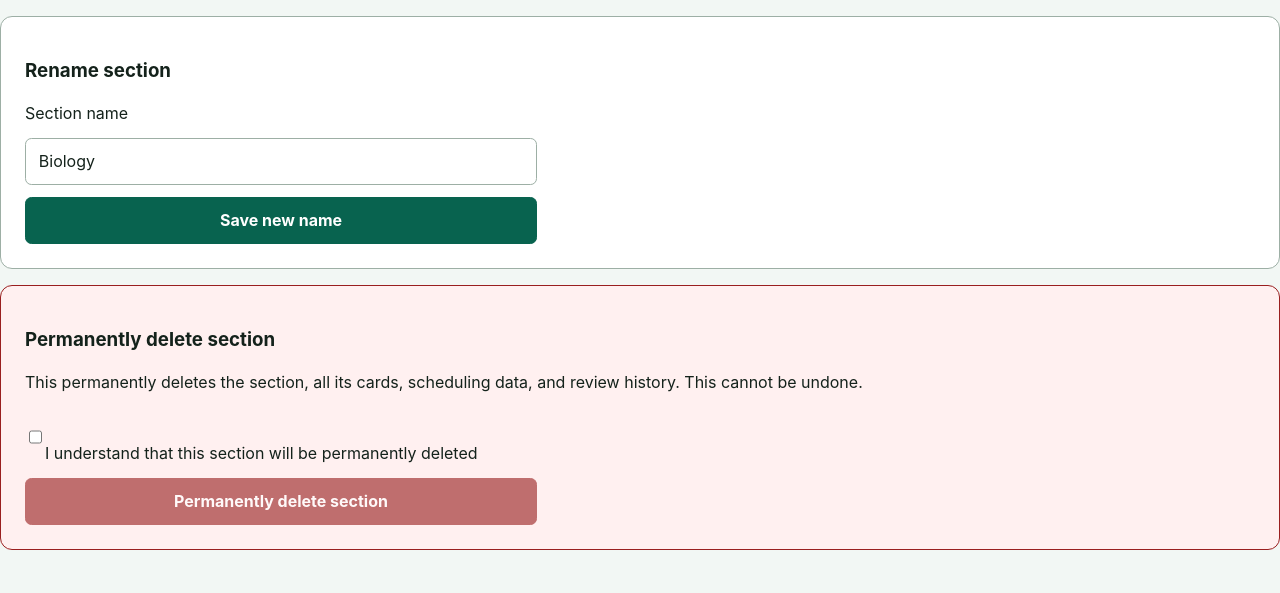
Test: SectionManagementPanel › renames with the current revision and focuses the success status
Replace the text in the field labelled "Section name" with "Human Biology" at [281, 162], box [25,138,537,185]
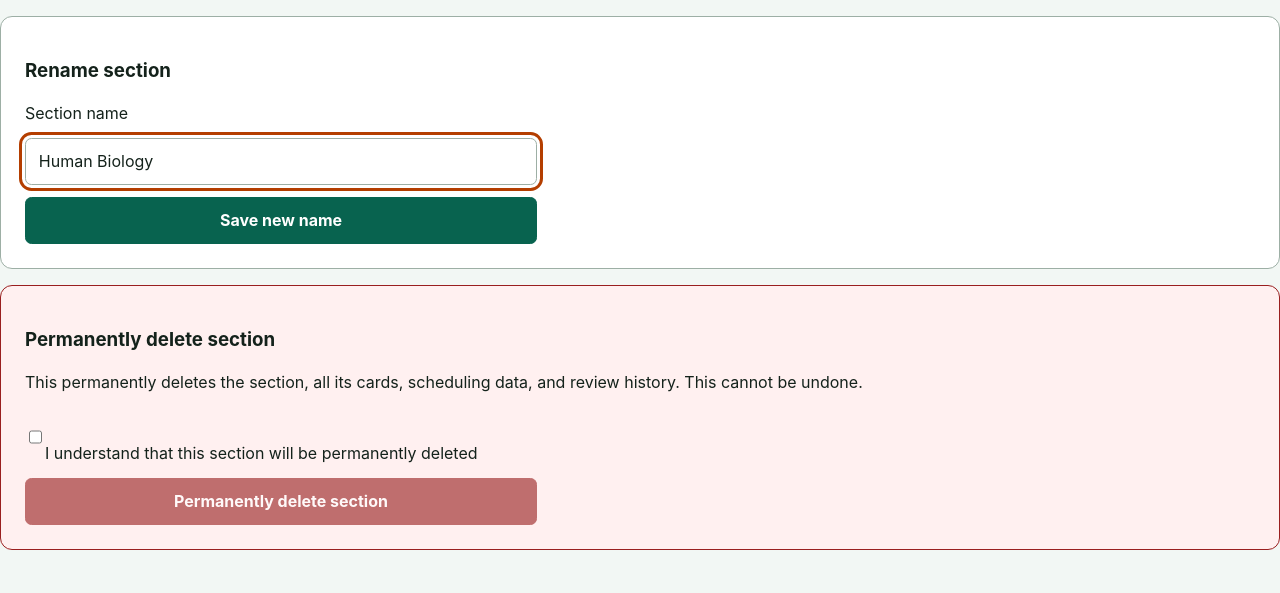
Click the button "Save new name".
click(281, 221)  # box [25,197,537,244]
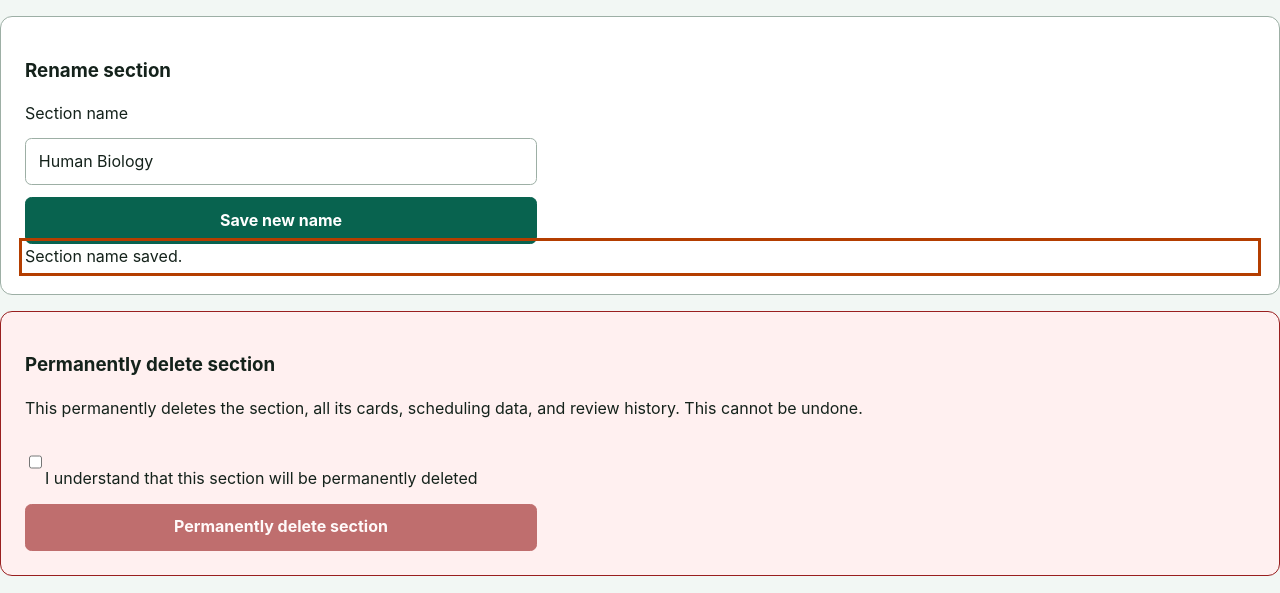
Result: the message reads "Section name saved." at [25,246,182,266]
